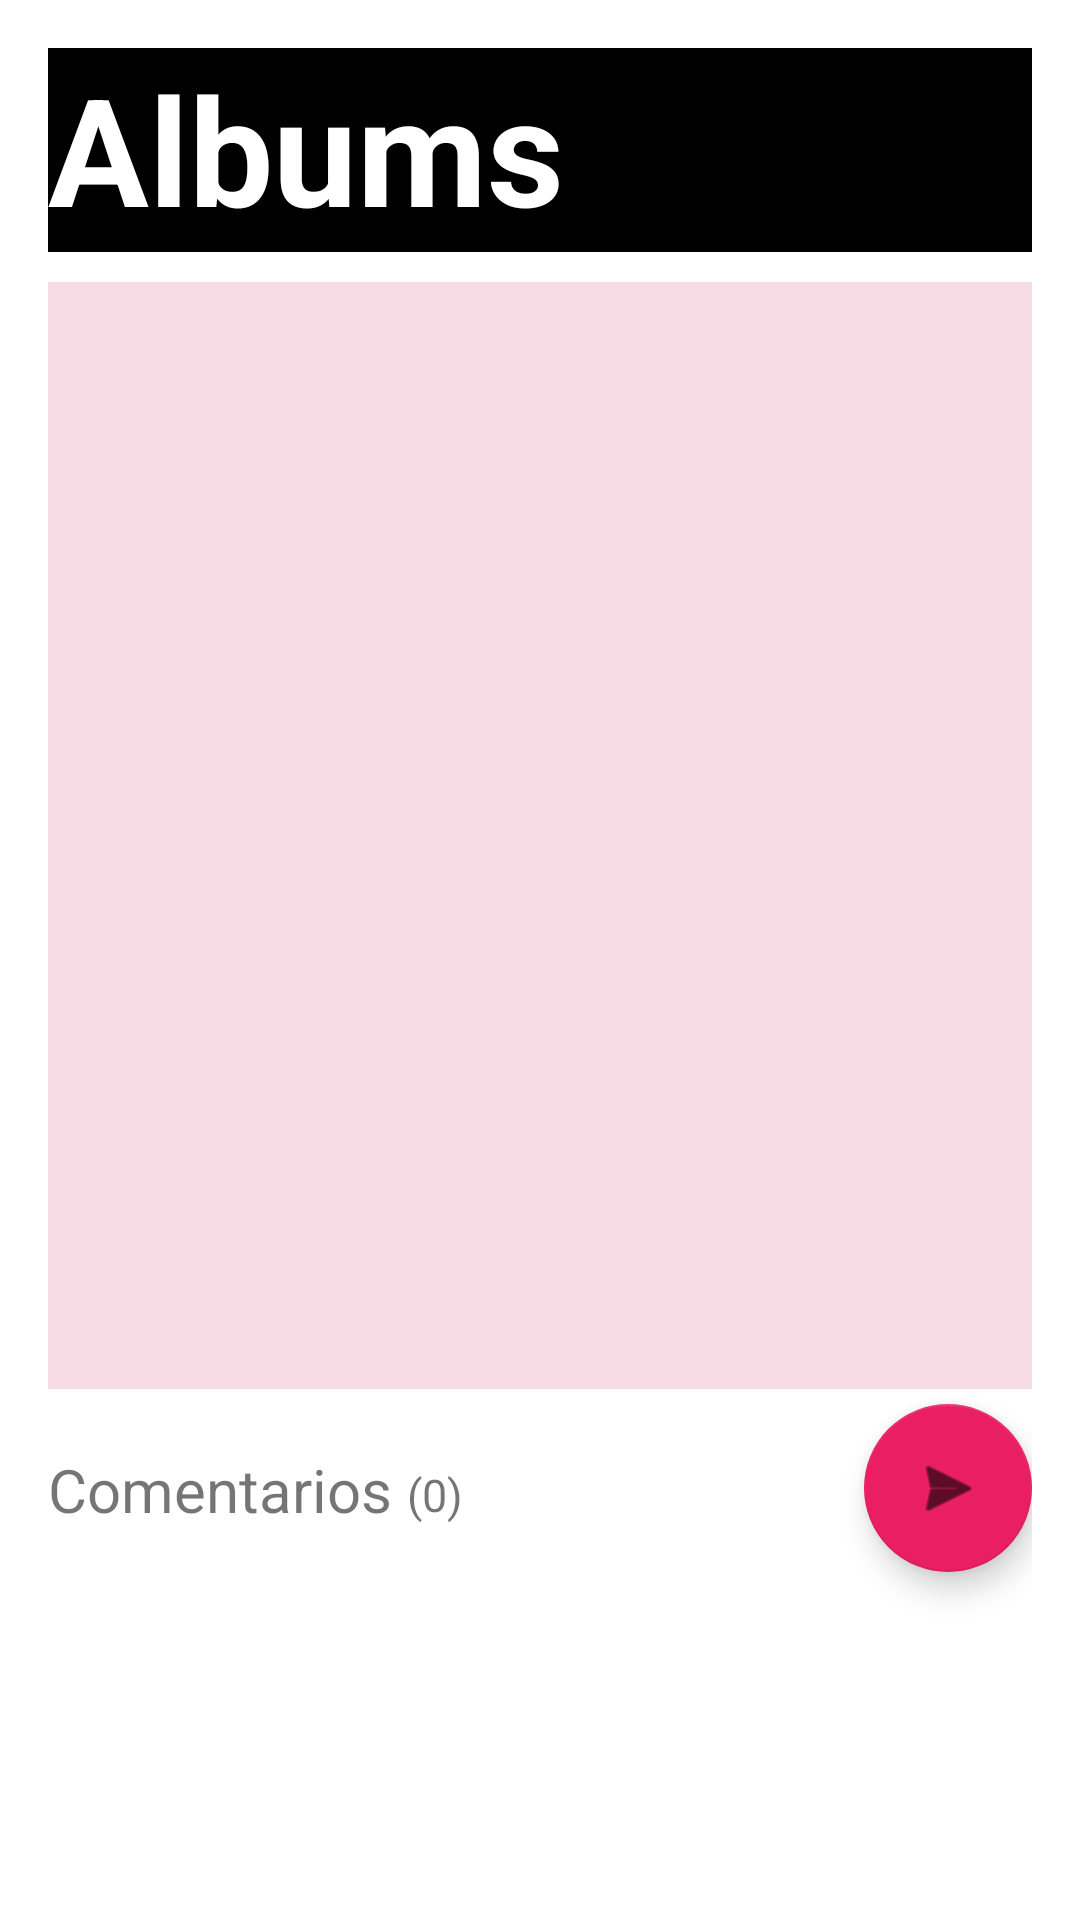

Where icons sit on this 1080 × 1920 app screen, as BBox(x1, y1, x2, y2):
send: BBox(864, 1404, 1032, 1572)
